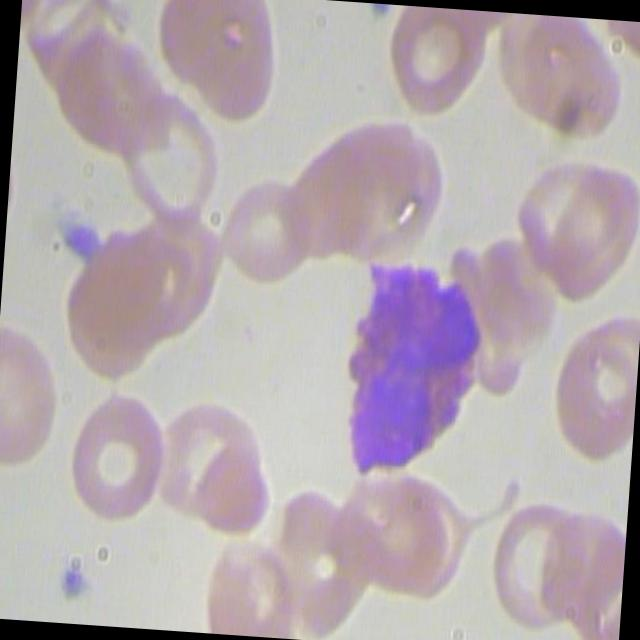Platelets: (44, 546, 92, 607), (54, 214, 106, 264)
RBC: (484, 11, 630, 146), (340, 465, 474, 604), (149, 0, 283, 125), (113, 87, 225, 236), (59, 382, 172, 526), (547, 303, 640, 474), (533, 157, 640, 304), (484, 490, 593, 634), (378, 4, 493, 120), (217, 170, 317, 284), (202, 530, 297, 637), (0, 322, 67, 473), (188, 432, 274, 532)
WBC: (324, 246, 496, 506)
